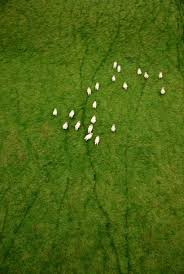sheep: (72, 120, 83, 131), (83, 132, 94, 142), (85, 87, 95, 97), (109, 122, 117, 134), (86, 123, 95, 133), (93, 135, 100, 147), (134, 67, 142, 77), (121, 79, 128, 90), (90, 115, 99, 123), (91, 99, 97, 111), (108, 76, 117, 84), (156, 70, 163, 80), (51, 108, 59, 116), (69, 109, 76, 118), (62, 122, 69, 130), (94, 81, 100, 90), (112, 60, 118, 69), (142, 72, 149, 79), (116, 65, 122, 72), (160, 87, 165, 95)
